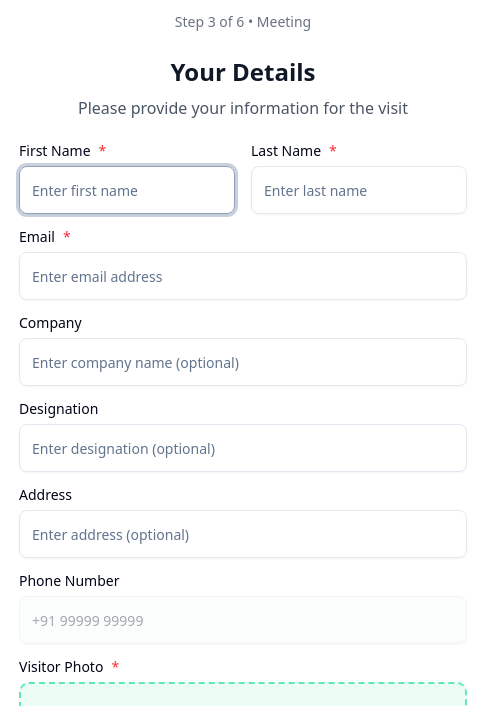
Test case: MeetingRegistrationForm › Form Validation › should validate first name minimum length
Type "A" into the field labelled "First Name *" at (127,190), box [19,166,235,214]
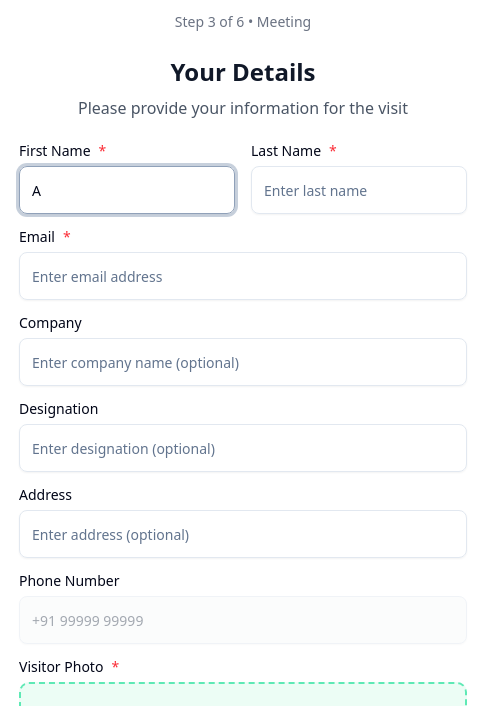
Press Tab
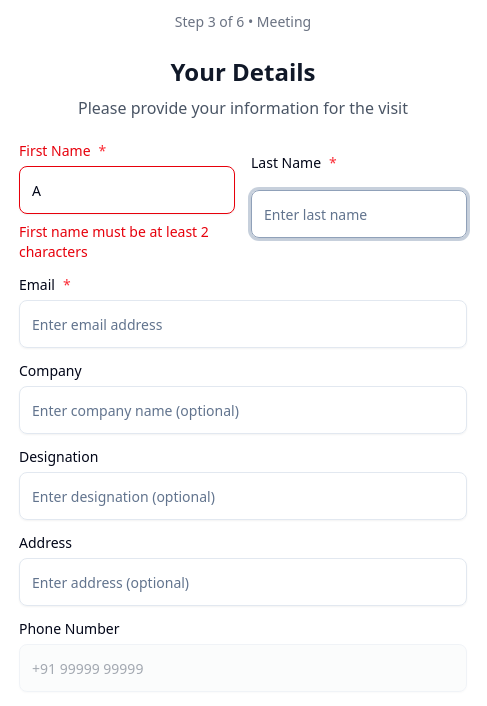
Expected: the text "First name must be at least 2 characters" is shown, [19,222,235,262]
